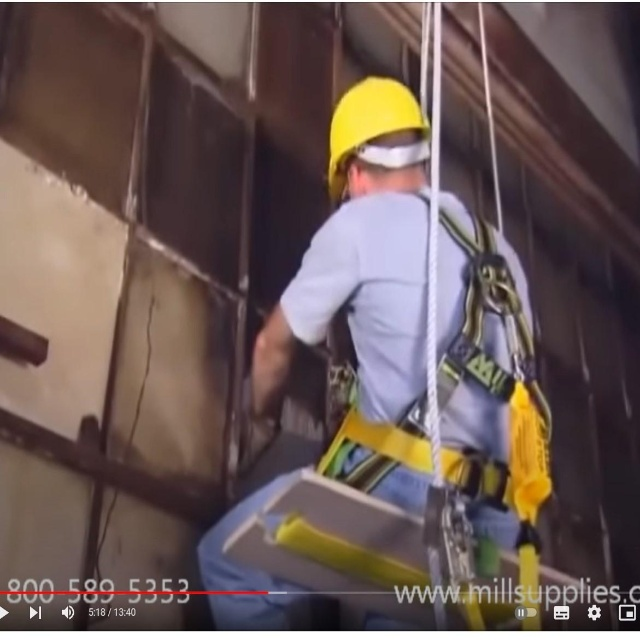Arnes_seguridad: (331, 190, 550, 529)
